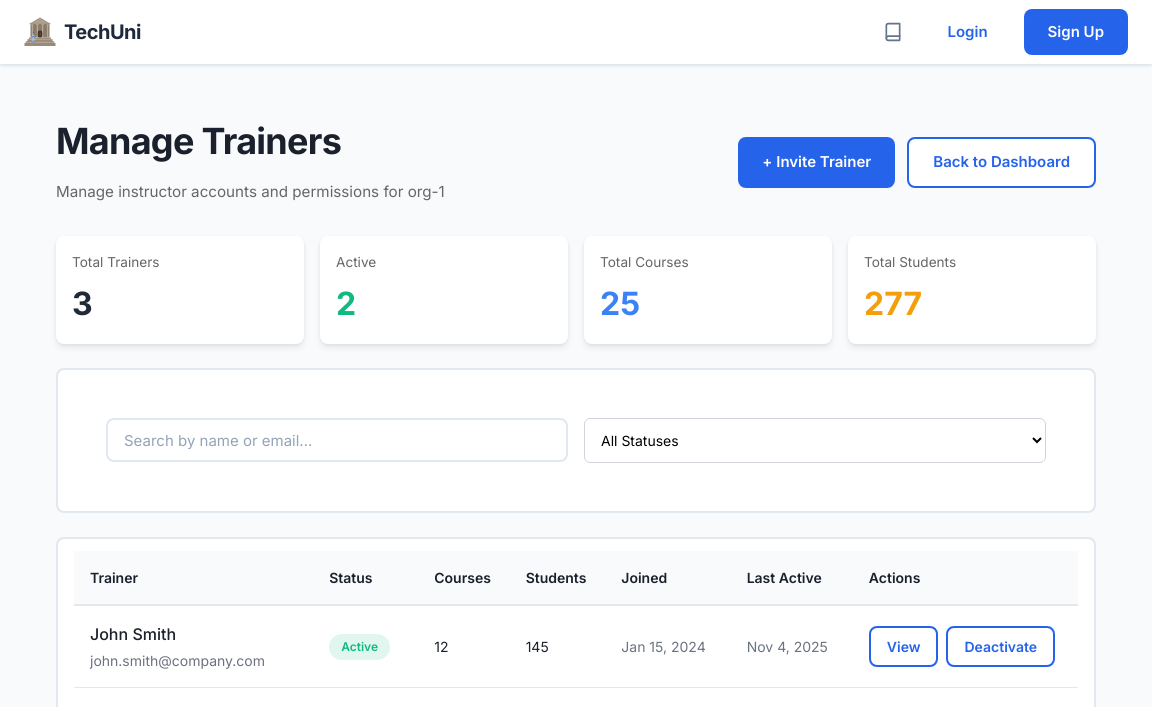
ManageTrainers Component › Search and Filtering › filters trainers by email
The image size is (1152, 707).
In the field with placeholder "Search by name or email...": (337, 440) [106,418,568,462], type "sarah.johnson"
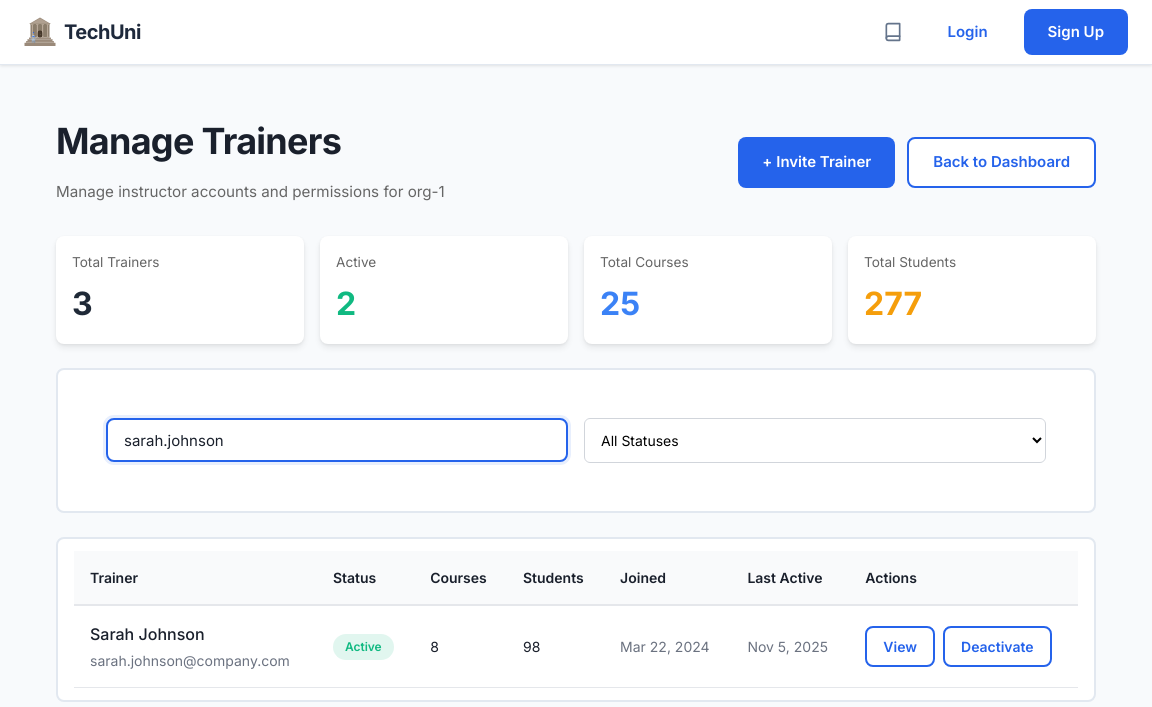
Check: the text "Sarah Johnson" is shown, box [90,624,204,644]
Check: the text "John Smith" is gone
